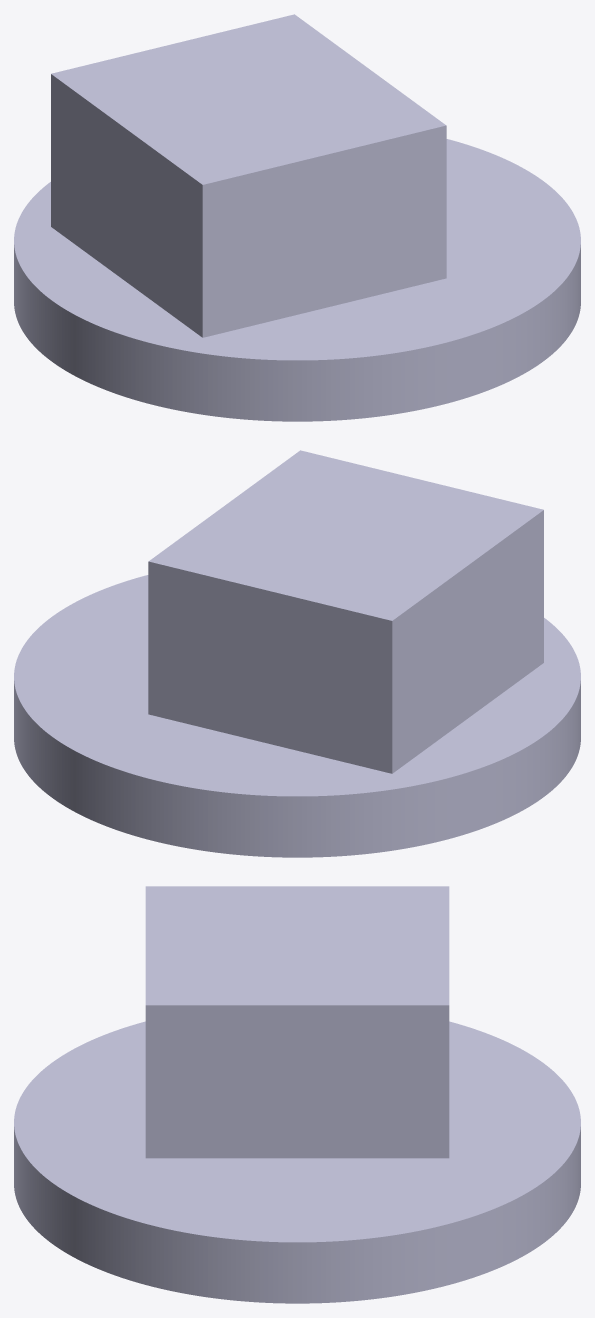
The model's file is AXIS_1.dae.
3 renders of one model, top to bottom at view 1: azimuth 30°, elevation 25°; view 2: azimuth 150°, elevation 25°; view 3: azimuth 270°, elevation 25°, orthographic.
Parts seen in each view (by area): view 1: node0; view 2: node0; view 3: node0.
Part boxes in pixels (left/top/right/bottom): node0: left=14, top=14, right=580, bottom=421; node0: left=14, top=450, right=580, bottom=857; node0: left=14, top=886, right=580, bottom=1303.
Bounding box in the file's own units: 0.084 × 0.084 × 0.035.
